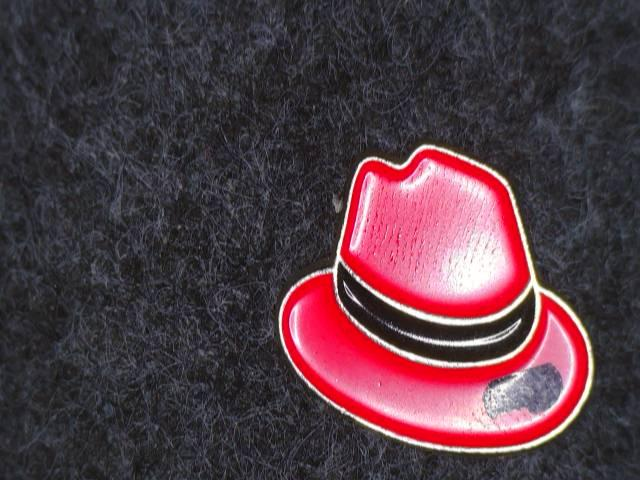Red-Hat: (250, 135, 622, 462)
Scratch: (462, 361, 587, 430)
